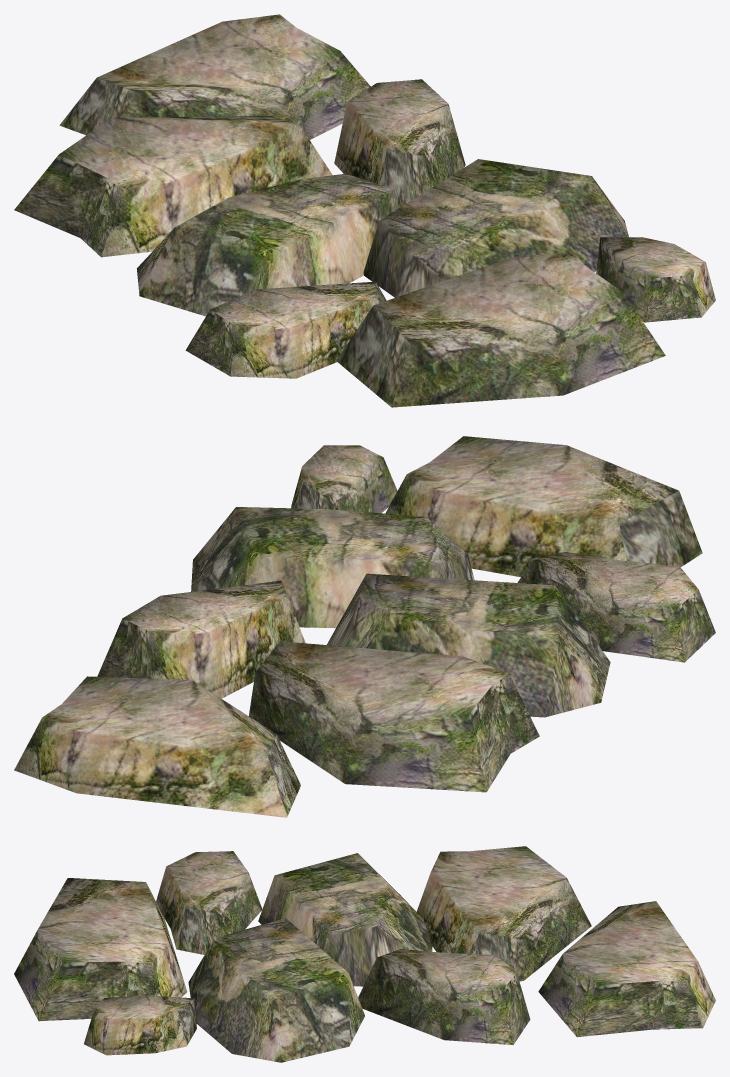
The model's file is S_Rock_Green039.FBX.
3 renders of one model, top to bottom at view 1: azimuth 30°, elevation 25°; view 2: azimuth 150°, elevation 25°; view 3: azimuth 270°, elevation 25°, orthographic. The views are drawn at different scales.
Parts seen in each view (by area): view 1: S_Rock_Green039; view 2: S_Rock_Green039; view 3: S_Rock_Green039.
Boxes of the visible parts, bbox=[...] form: S_Rock_Green039: bbox=[14, 14, 715, 407]; S_Rock_Green039: bbox=[14, 436, 715, 817]; S_Rock_Green039: bbox=[14, 846, 715, 1062].
Bounding box in the file's own units: 406 × 652 × 52.96.
